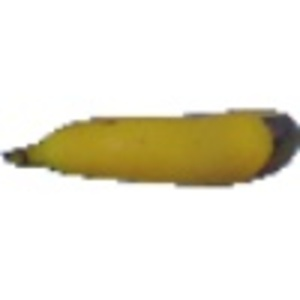banana: (1, 101, 287, 184)
